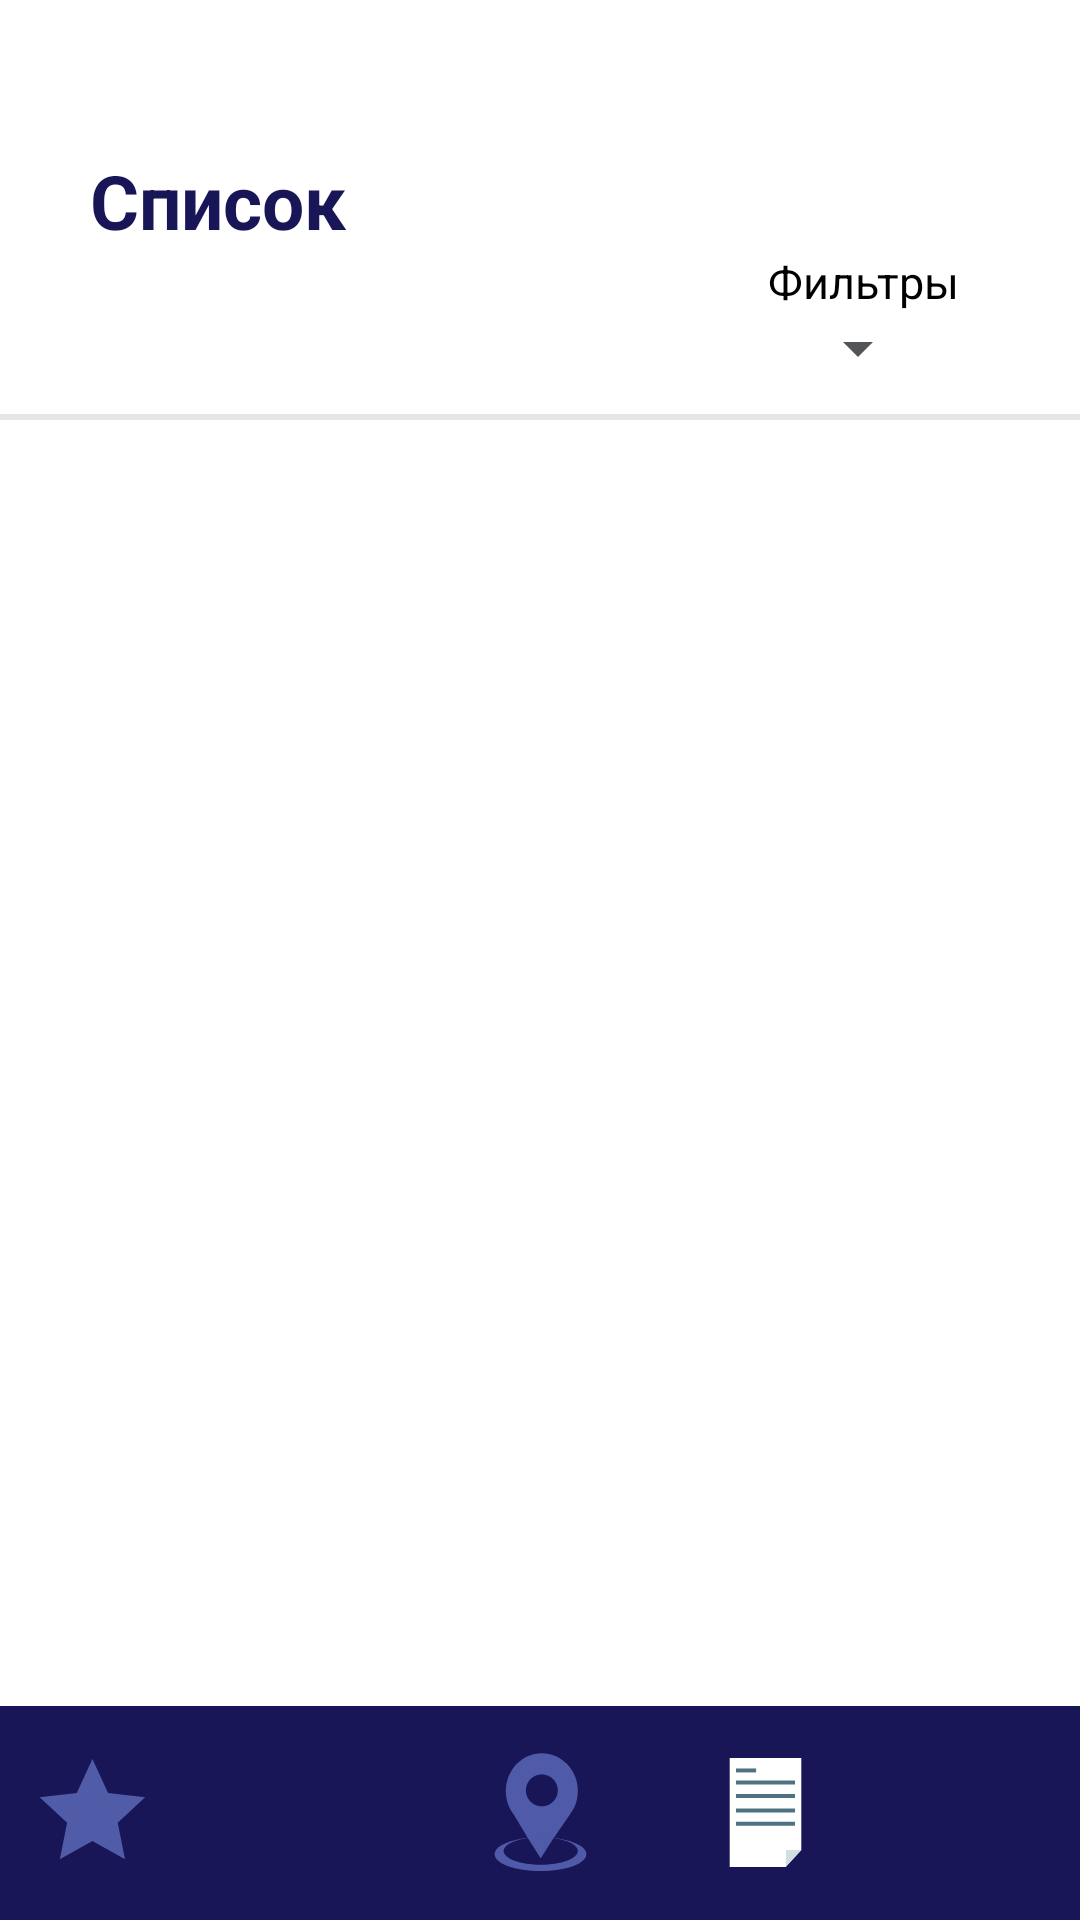

Locate icon controls on the screen. Image size 1080x1920, boxes as Rect(x1, y1, x2, y2).
favourites: Rect(40, 1759, 145, 1859)
list: Rect(729, 1758, 802, 1867)
map: Rect(494, 1753, 587, 1871)
